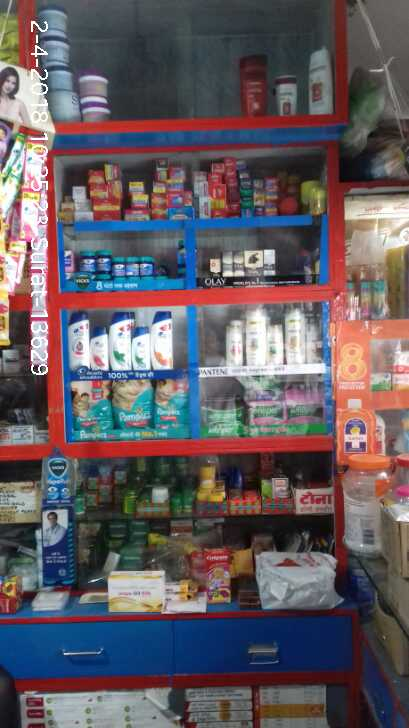oralcare: (372, 259, 390, 320), (346, 257, 359, 315), (359, 258, 370, 315)
vicks: (138, 258, 158, 276), (80, 251, 97, 271), (97, 251, 110, 273), (124, 257, 138, 276), (113, 257, 124, 278), (64, 251, 75, 271), (176, 240, 185, 262), (176, 262, 185, 276)
